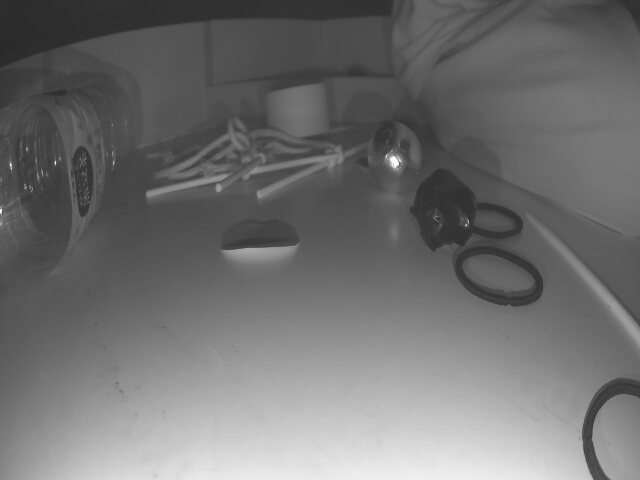Dead: (415, 174, 476, 239)
Live: (366, 116, 420, 191)
Point: (208, 76, 434, 126)
